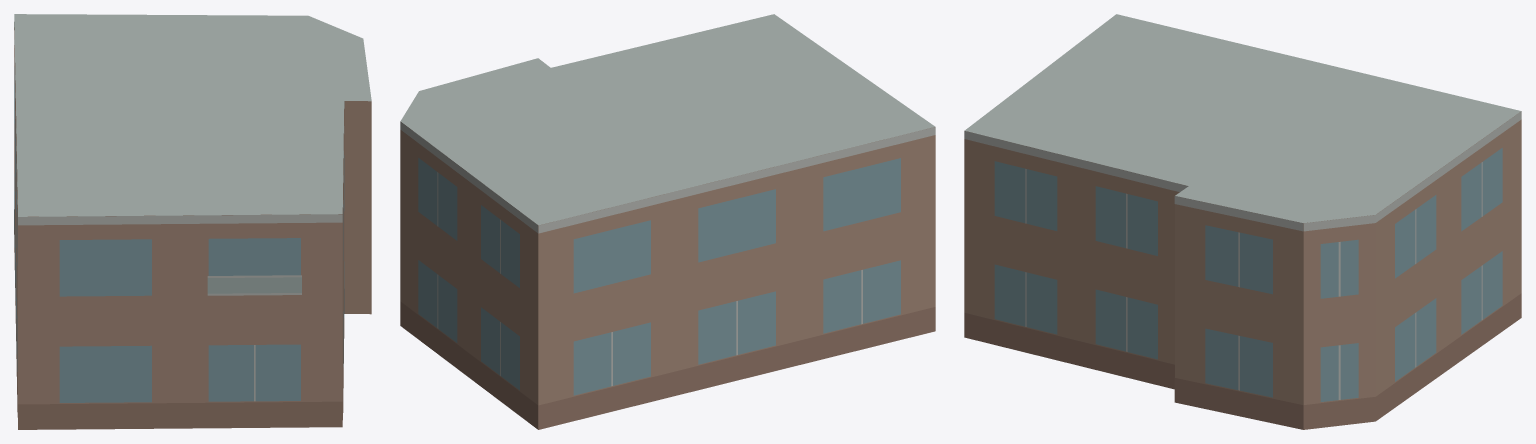
File: survey-upis-32661811.glb
3 views of the same model, side by side, from view 1: azimuth 30°, elevation 25°; view 2: azimuth 150°, elevation 25°; view 3: azimuth 270°, elevation 25° (orthographic). The views are drawn at different scales.
Visible parts, largest first — view 1: survey-upis-32661811.tmp; view 2: survey-upis-32661811.tmp; view 3: survey-upis-32661811.tmp.
Part boxes in pixels (x1,y1,x2,y2): survey-upis-32661811.tmp: (14,14,371,429); survey-upis-32661811.tmp: (400,14,935,429); survey-upis-32661811.tmp: (964,14,1521,429).
Bounding box in the file's own units: 13.25 × 6.1 × 14.91.
